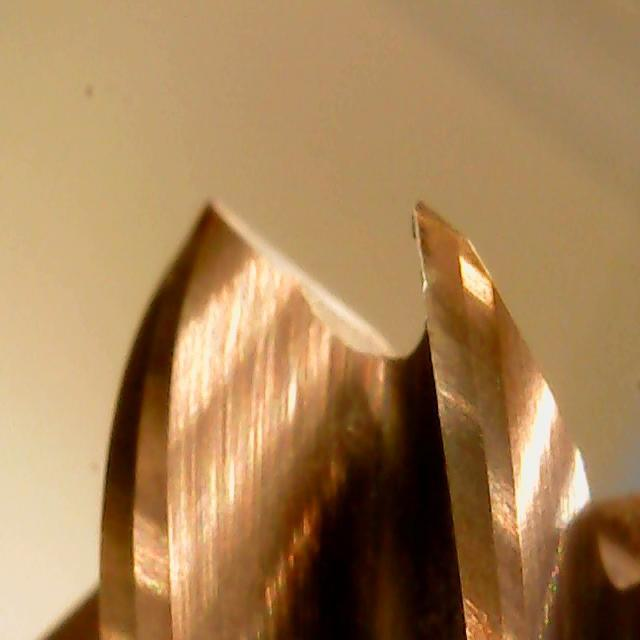Tool-wear-class-0: (402, 193, 500, 468)
